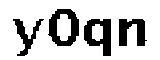0: (46, 4, 82, 52)
n: (116, 14, 151, 52)
q: (83, 17, 113, 60)
y: (9, 14, 45, 59)
